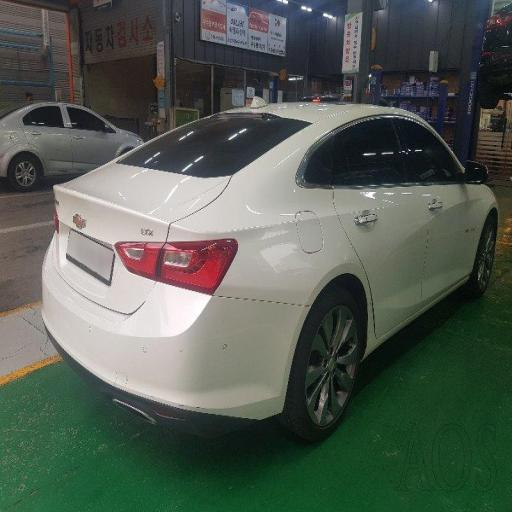dent: (129, 259, 228, 341)
